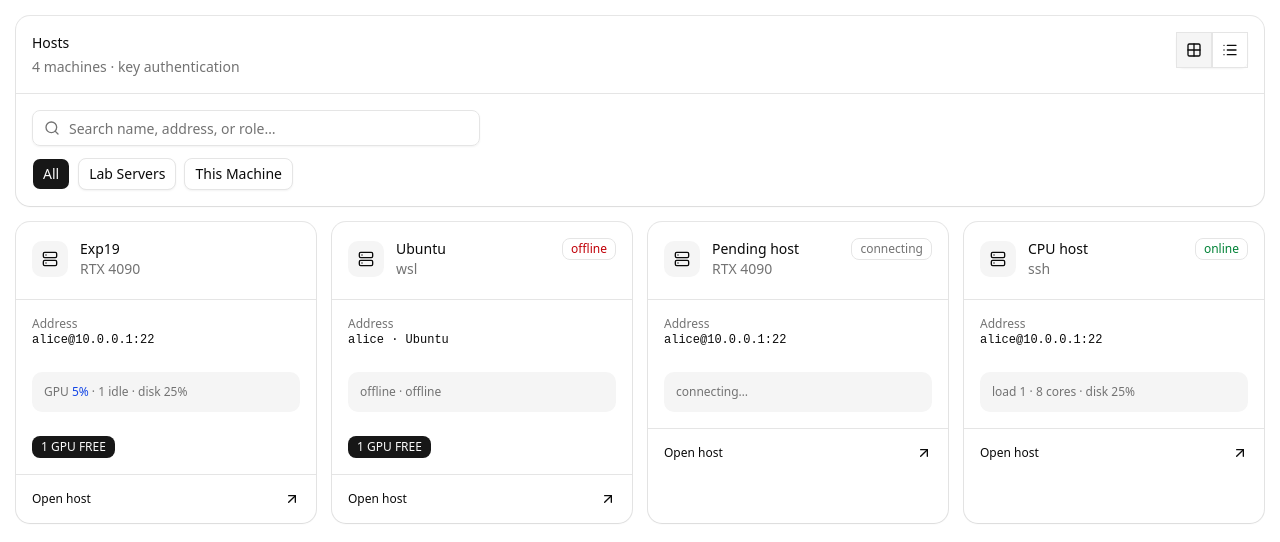
Scenario: Overview › hides only redundant online state in grid and list layouts
The width and height of the screenshot is (1280, 542).
Expected: the text "offline" is shown, left=562, top=238, right=616, bottom=260
Expected: the text "connecting" is shown, left=851, top=238, right=932, bottom=260
Click the button named "List view" at (1230, 50), box left=1212, top=32, right=1248, bottom=68
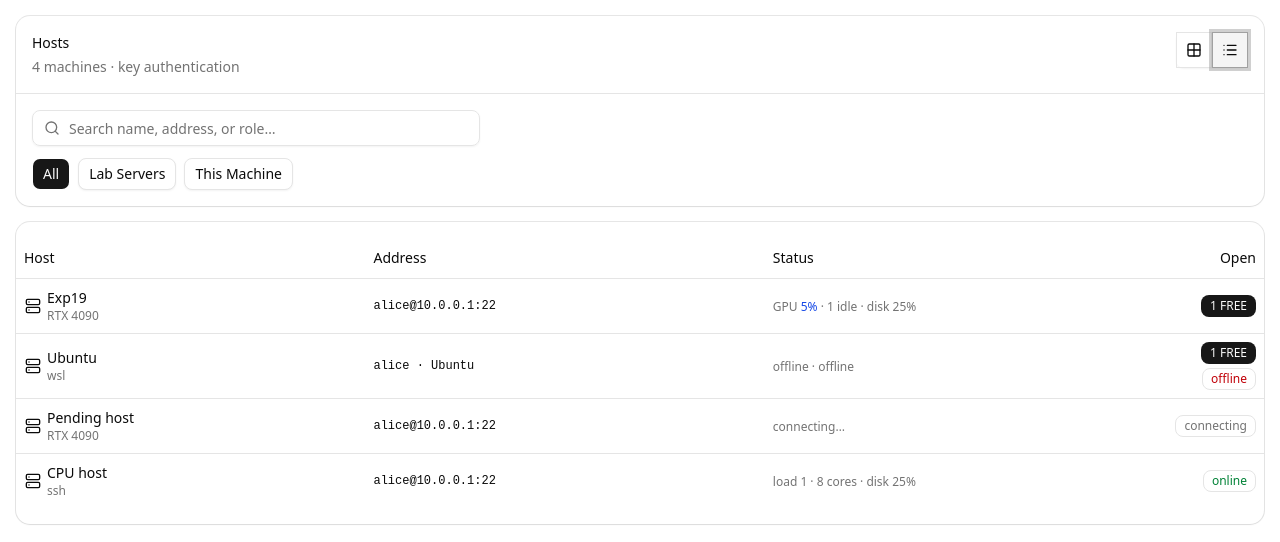
Expected: the text "connecting" is shown, left=1175, top=414, right=1256, bottom=436
Result: the text "offline" is shown at left=1202, top=368, right=1256, bottom=390
